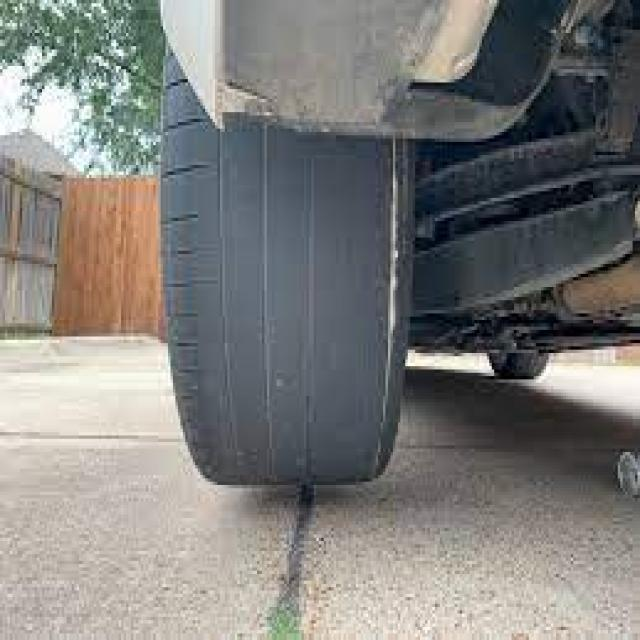Flat spots: (195, 128, 381, 450)
